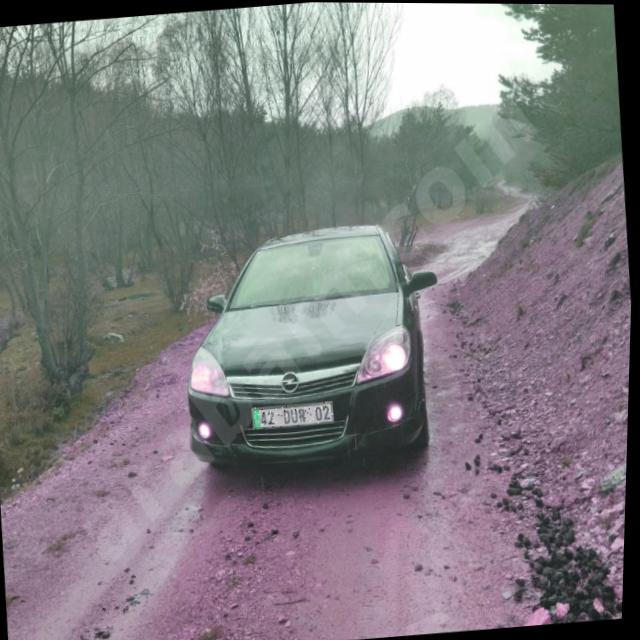license_plate: (253, 400, 337, 429)
